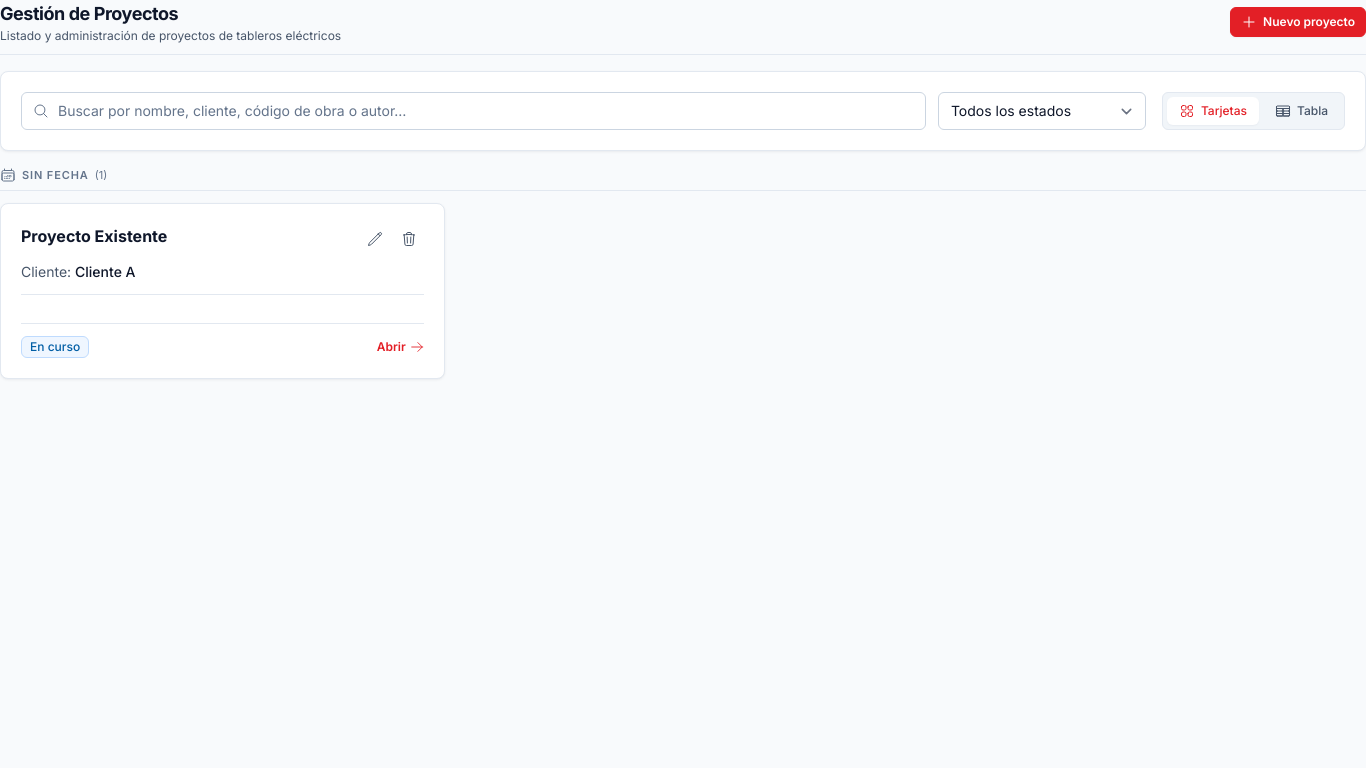
Scenario: ProyectosPage › edits a project's nombre and cliente via the edit icon
The width and height of the screenshot is (1366, 768).
Check: the link "Proyecto Existente" is shown, box [21, 224, 167, 248]
Click the button named "editar proyecto existente": point(375, 238) [360, 224, 390, 254]
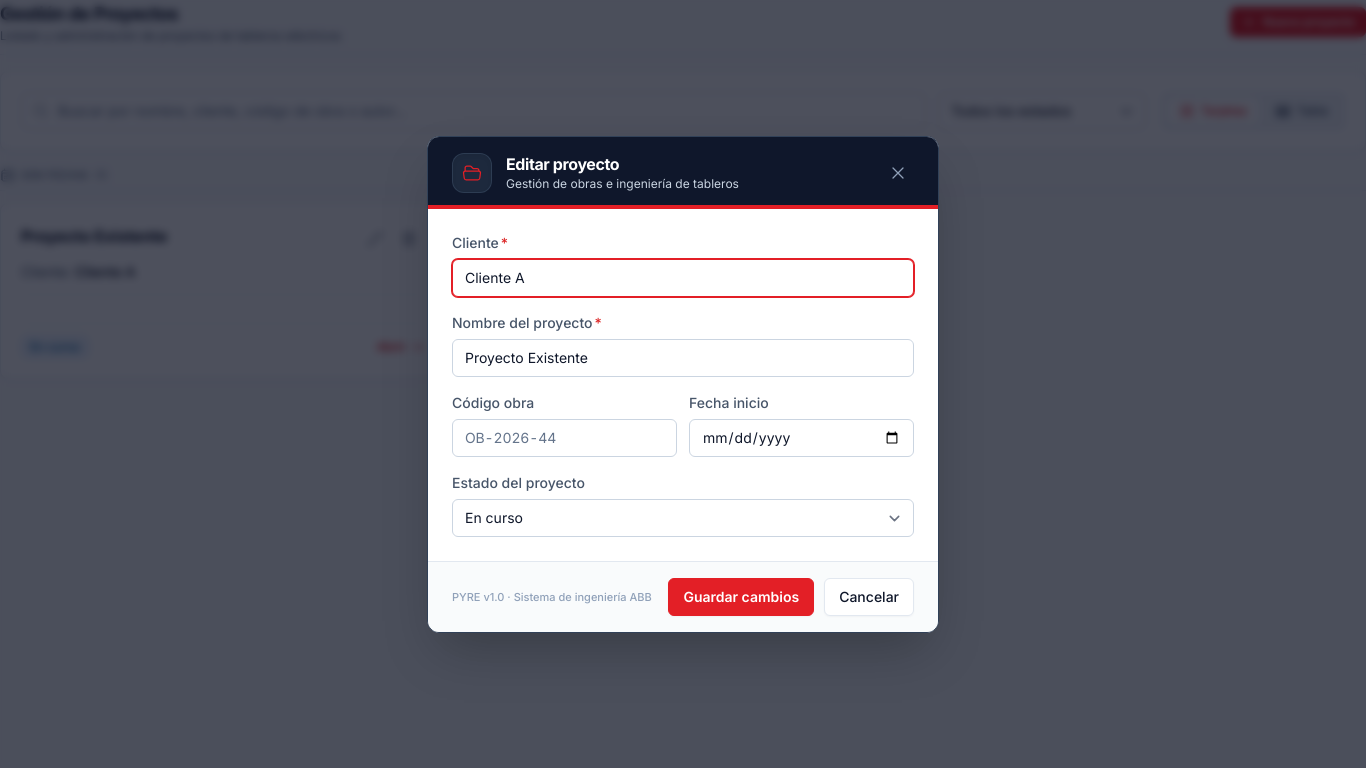
Check: the field labelled "Nombre del proyecto*" holds "Proyecto Existente"
Replace the text in the field labelled "Nombre del proyecto*" with "Proyecto Editado": point(683, 358) [452, 338, 914, 376]
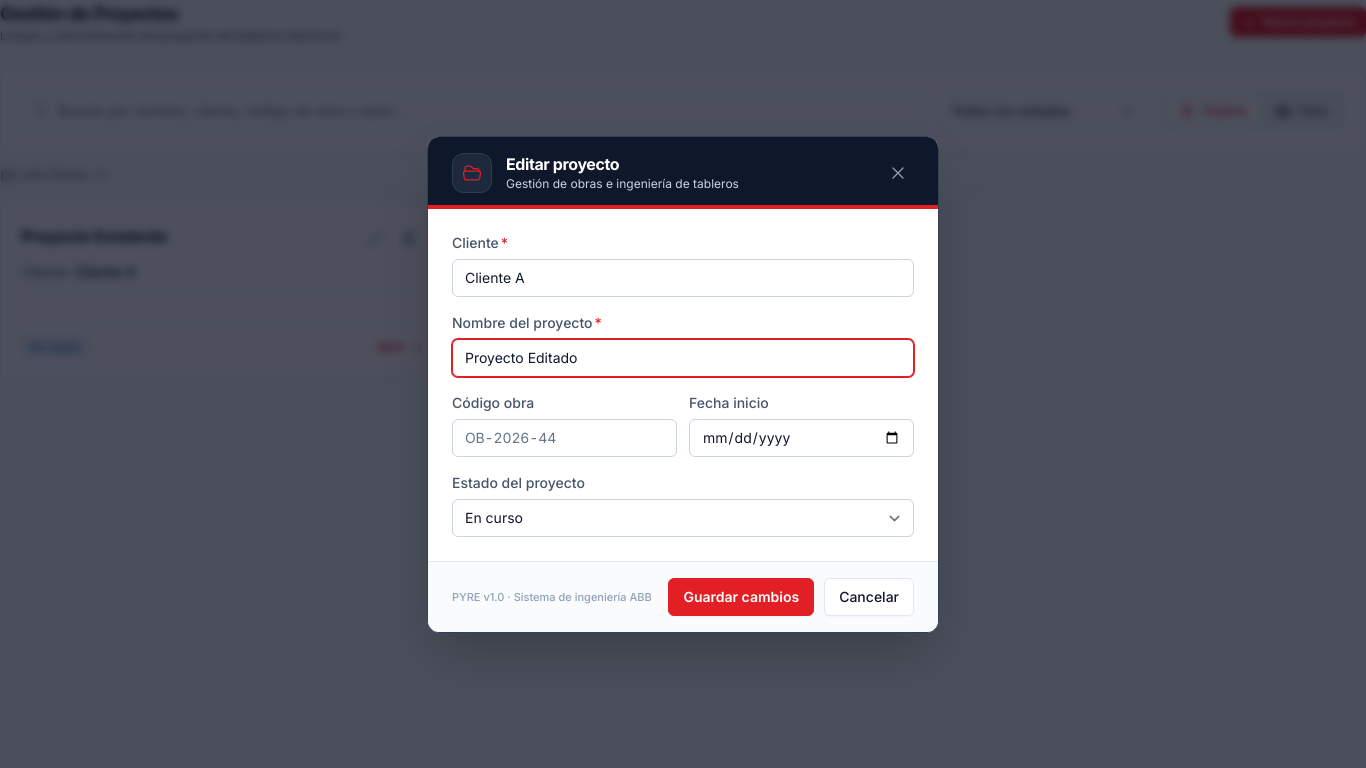
Click the button "Guardar cambios": point(741, 596) [668, 578, 814, 616]
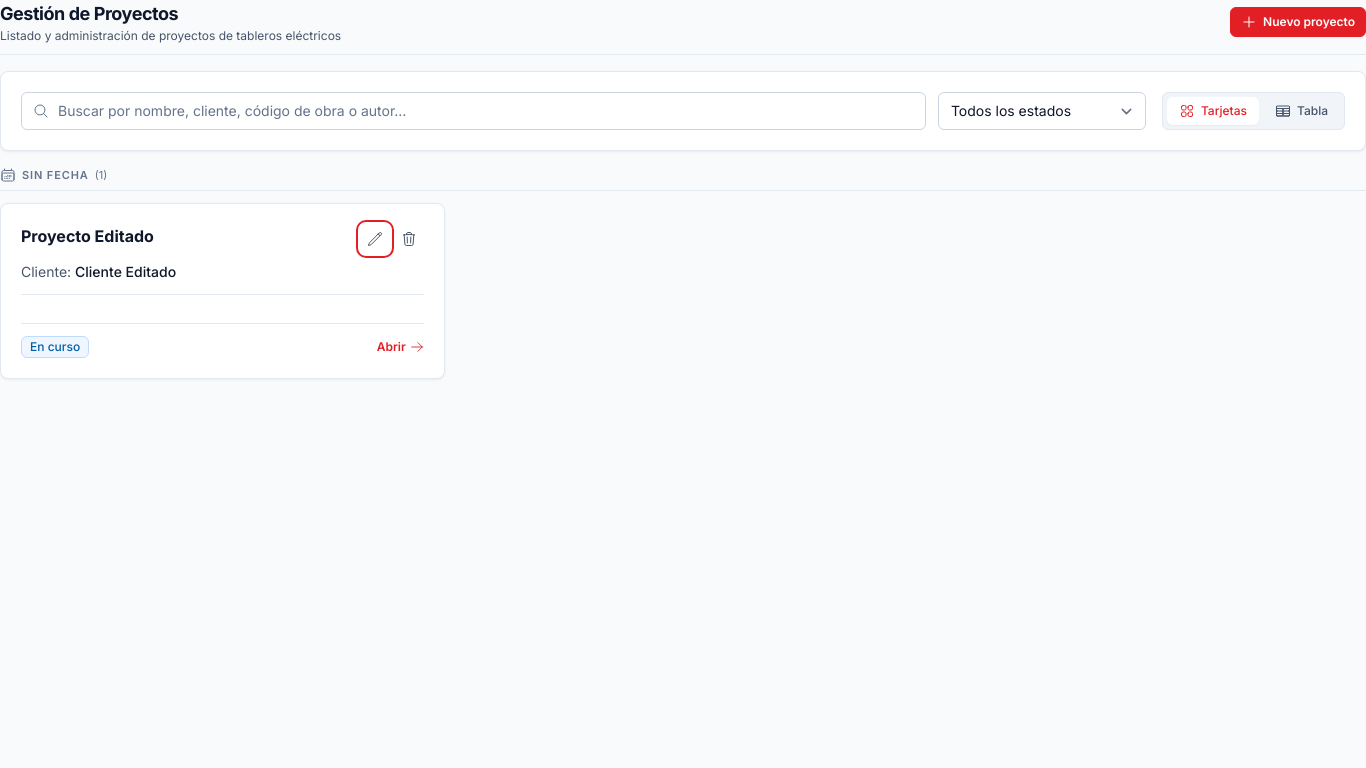
Check: the link "Proyecto Editado" is shown, box [21, 224, 154, 248]
